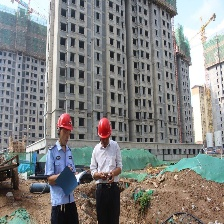helmet: (97, 118, 111, 140), (58, 114, 74, 130)
no-vest: (49, 144, 74, 197), (96, 141, 118, 182)
person: (47, 112, 81, 224), (88, 117, 123, 224)
